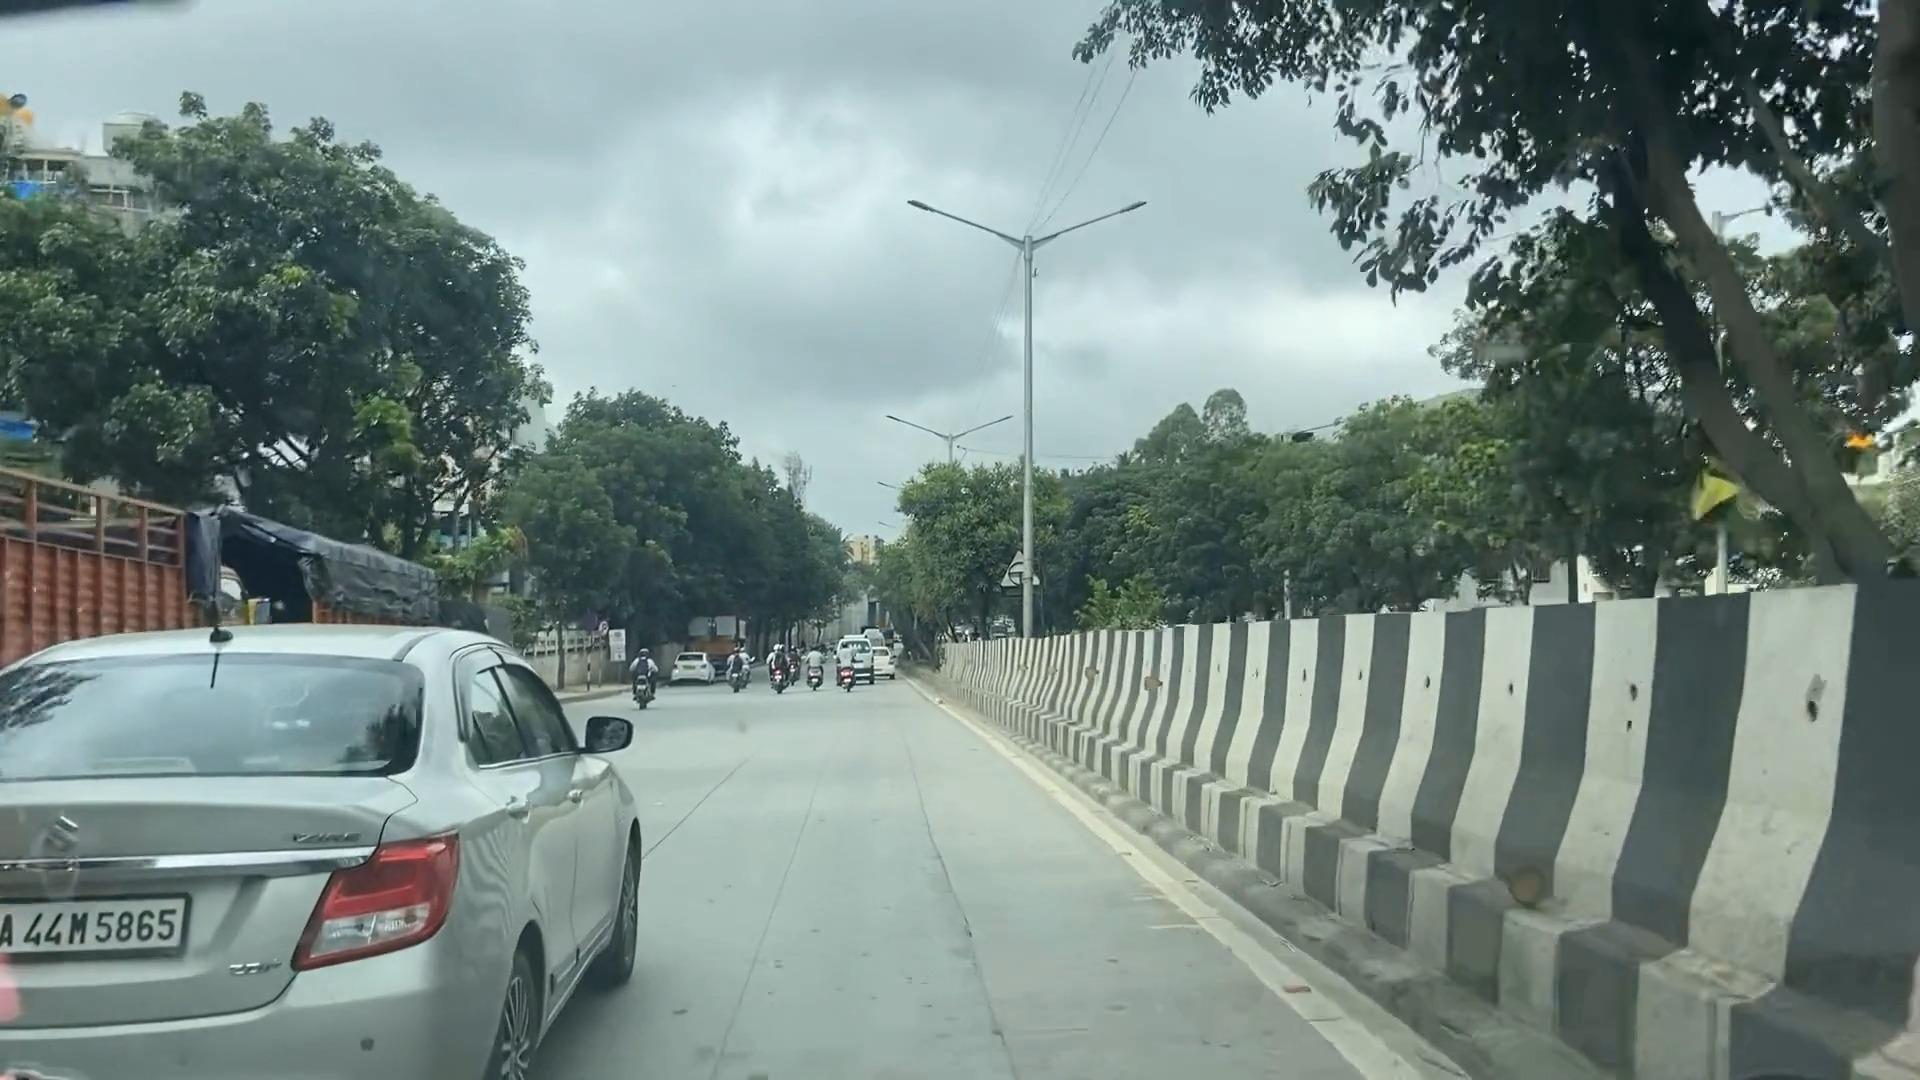LMV: (0, 622, 653, 1080)
